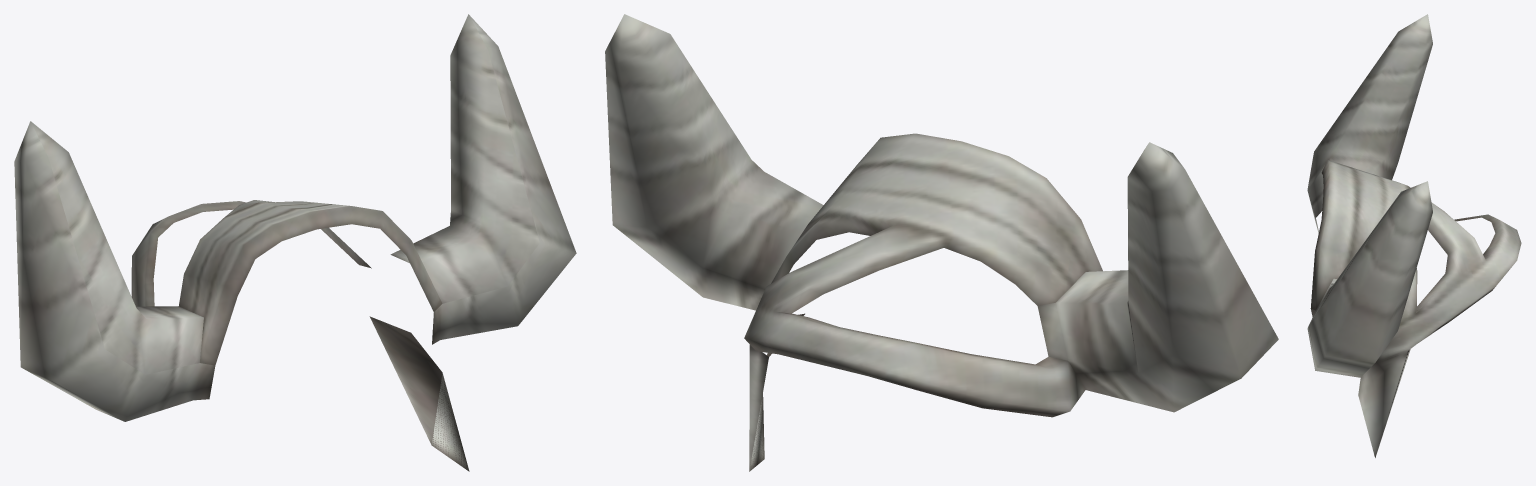
Rendered from mummyHead.glb.
The picture shows the model from 3 angles, left to right: view 1: azimuth 30°, elevation 25°; view 2: azimuth 150°, elevation 25°; view 3: azimuth 270°, elevation 25°; orthographic projection. The views are drawn at different scales.
Parts seen in each view (by area): view 1: mummyHead; view 2: mummyHead; view 3: mummyHead.
Part boxes in pixels (x1,y1,x2,y2): mummyHead: (14, 14, 576, 471); mummyHead: (605, 14, 1278, 471); mummyHead: (1307, 14, 1521, 457).
Bounding box in the file's own units: 1.25 × 0.9144 × 0.5667.
1 material, 1 textured.
